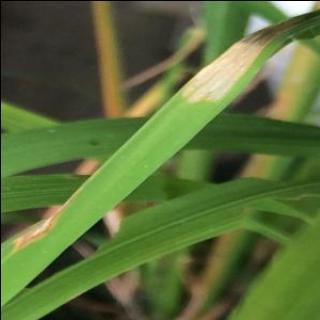Blast: (14, 206, 61, 250)
